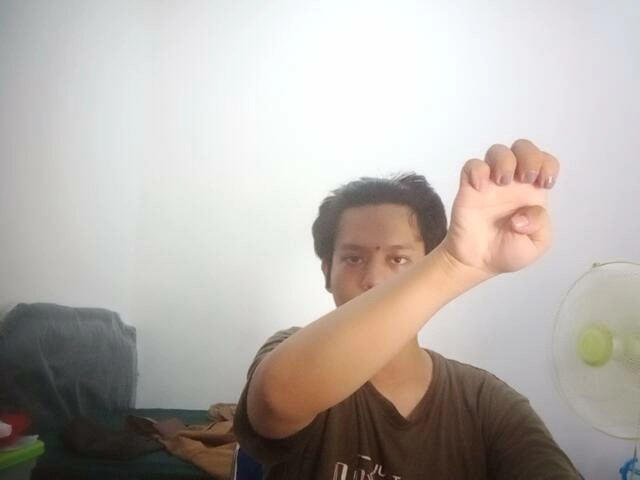E: (448, 132, 562, 274)
